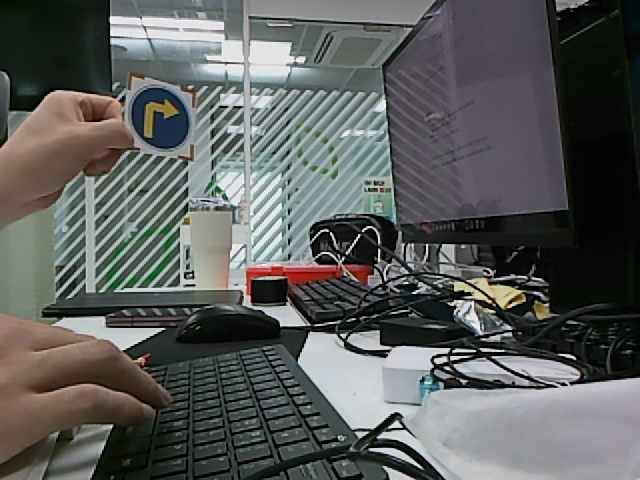right: (129, 84, 191, 150)
